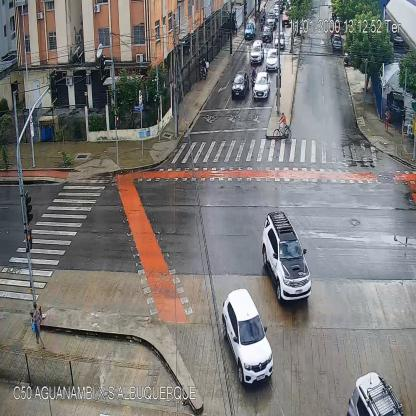bicycle: (274, 113, 292, 142)
car: (222, 288, 273, 384), (263, 212, 311, 300), (347, 373, 403, 416), (231, 72, 250, 98), (253, 72, 271, 98), (250, 38, 264, 64), (265, 48, 279, 69), (245, 19, 256, 40), (275, 32, 285, 50), (262, 25, 272, 42), (332, 34, 342, 51), (266, 12, 276, 28), (282, 10, 289, 26)
motorbike: (199, 58, 210, 80), (251, 67, 256, 92), (262, 7, 266, 23), (260, 15, 263, 30)
person: (32, 302, 46, 350), (385, 105, 390, 132)
